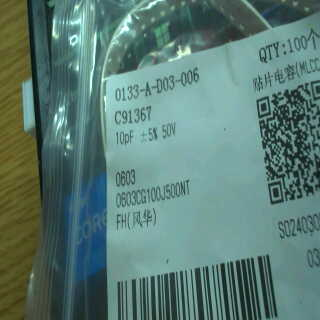10pF: (115, 129, 135, 150)
